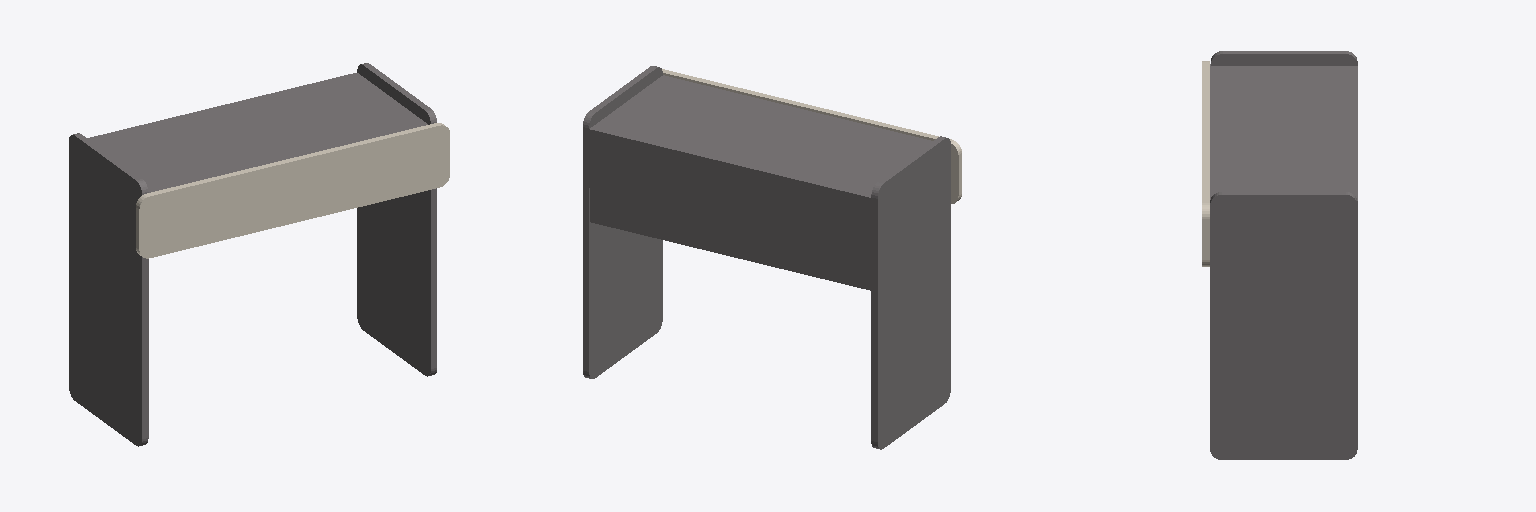
The model's file is 2pir_toaletka.obj.
3 views of the same model, side by side, from view 1: azimuth 30°, elevation 25°; view 2: azimuth 150°, elevation 25°; view 3: azimuth 270°, elevation 25° (orthographic).
Visible parts, largest first — view 1: Rectangle10, Rectangle12, Box02, Rectangle11; view 2: Box02, Rectangle10, Rectangle11, Box03, Rectangle12; view 3: Rectangle11, Box02, Rectangle10, Rectangle12.
Part boxes in pixels (x1,y1,x2,y2): Rectangle10: (69, 133, 148, 446); Rectangle12: (136, 123, 449, 258); Box02: (87, 73, 427, 192); Rectangle11: (357, 63, 436, 376); Box02: (589, 75, 932, 255); Rectangle10: (871, 136, 950, 449); Rectangle11: (583, 66, 662, 378); Box03: (590, 188, 870, 290); Rectangle12: (662, 69, 961, 203); Rectangle11: (1210, 192, 1357, 459); Box02: (1210, 64, 1357, 200); Rectangle10: (1211, 51, 1357, 65); Rectangle12: (1202, 61, 1209, 266).
Size of the model in its own units: 96.75 by 78.9 by 41.86.